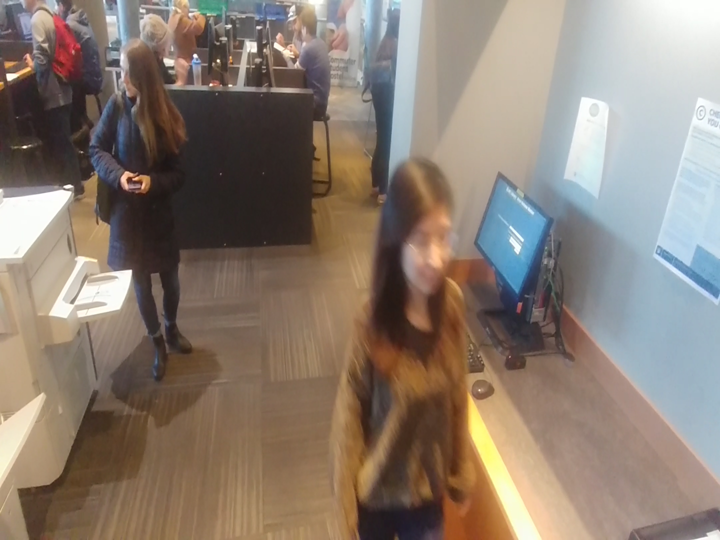face: (356, 149, 469, 341), (108, 38, 170, 109), (296, 7, 322, 47), (284, 2, 301, 39), (171, 0, 192, 24)
human: (325, 149, 485, 539), (82, 39, 209, 392), (15, 0, 86, 209), (364, 3, 402, 204), (284, 9, 336, 117), (53, 0, 106, 104), (167, 0, 210, 50)
